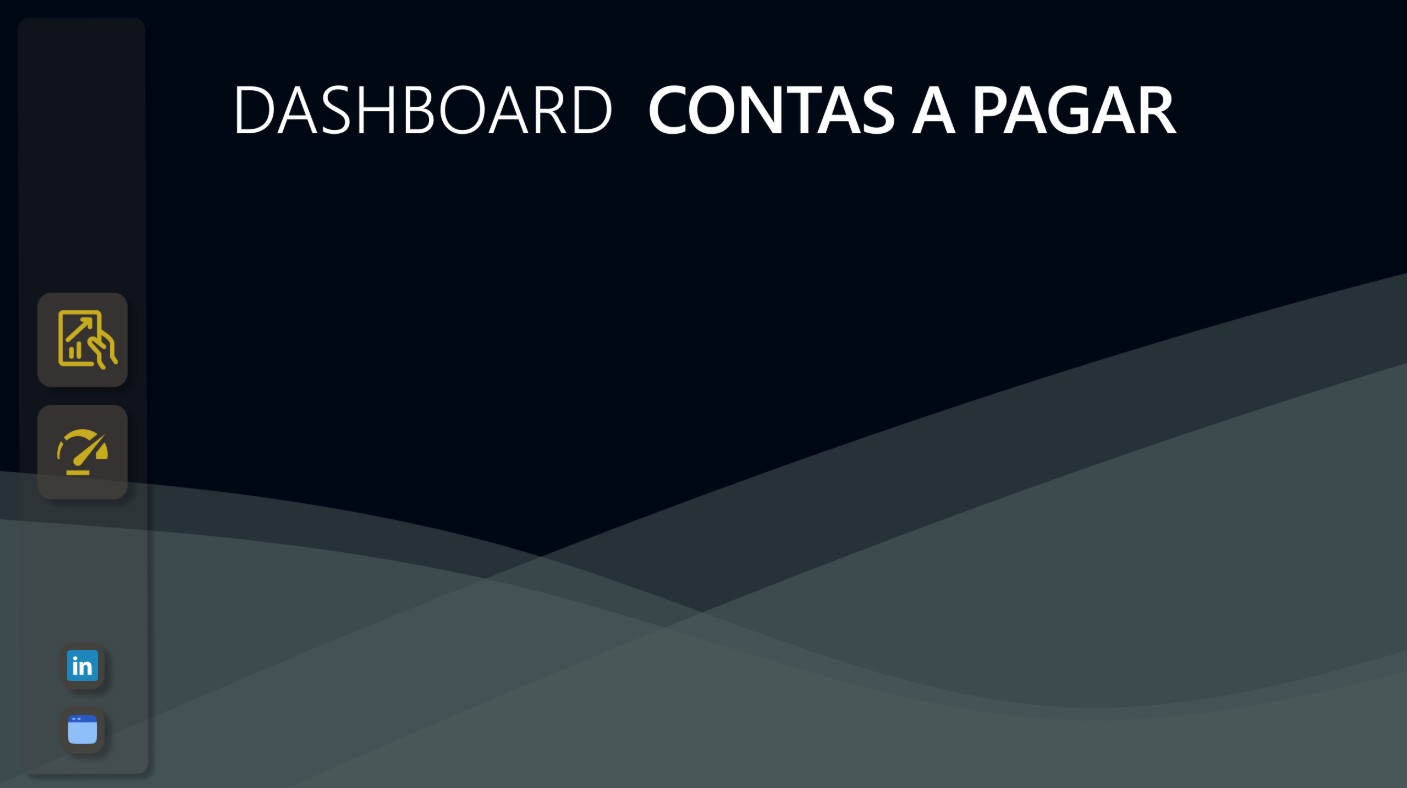

What the dashboard file says about the page in this screenshot:
{"tool":"powerbi","page":{"name":"Home","canvas":[1280,720],"ordinal":0},"visuals":[{"type":"actionButton","box":[31.8,265.8,86.8,85.8],"z":0},{"type":"actionButton","box":[31.8,370.6,86.8,85.8],"z":1000},{"type":"actionButton","box":[53.1,584.4,43.1,45],"z":2000},{"type":"actionButton","box":[53.1,641.9,43.1,45],"z":3000}]}

Visuals, with their boxes in screenshot pixels (x1, y1, x2, y2), scaled from the page's 1280x720 canvas onto the 1407x788 screenshot:
actionButton: bbox=(35, 291, 130, 385)
actionButton: bbox=(35, 406, 130, 500)
actionButton: bbox=(58, 640, 106, 689)
actionButton: bbox=(58, 703, 106, 752)
